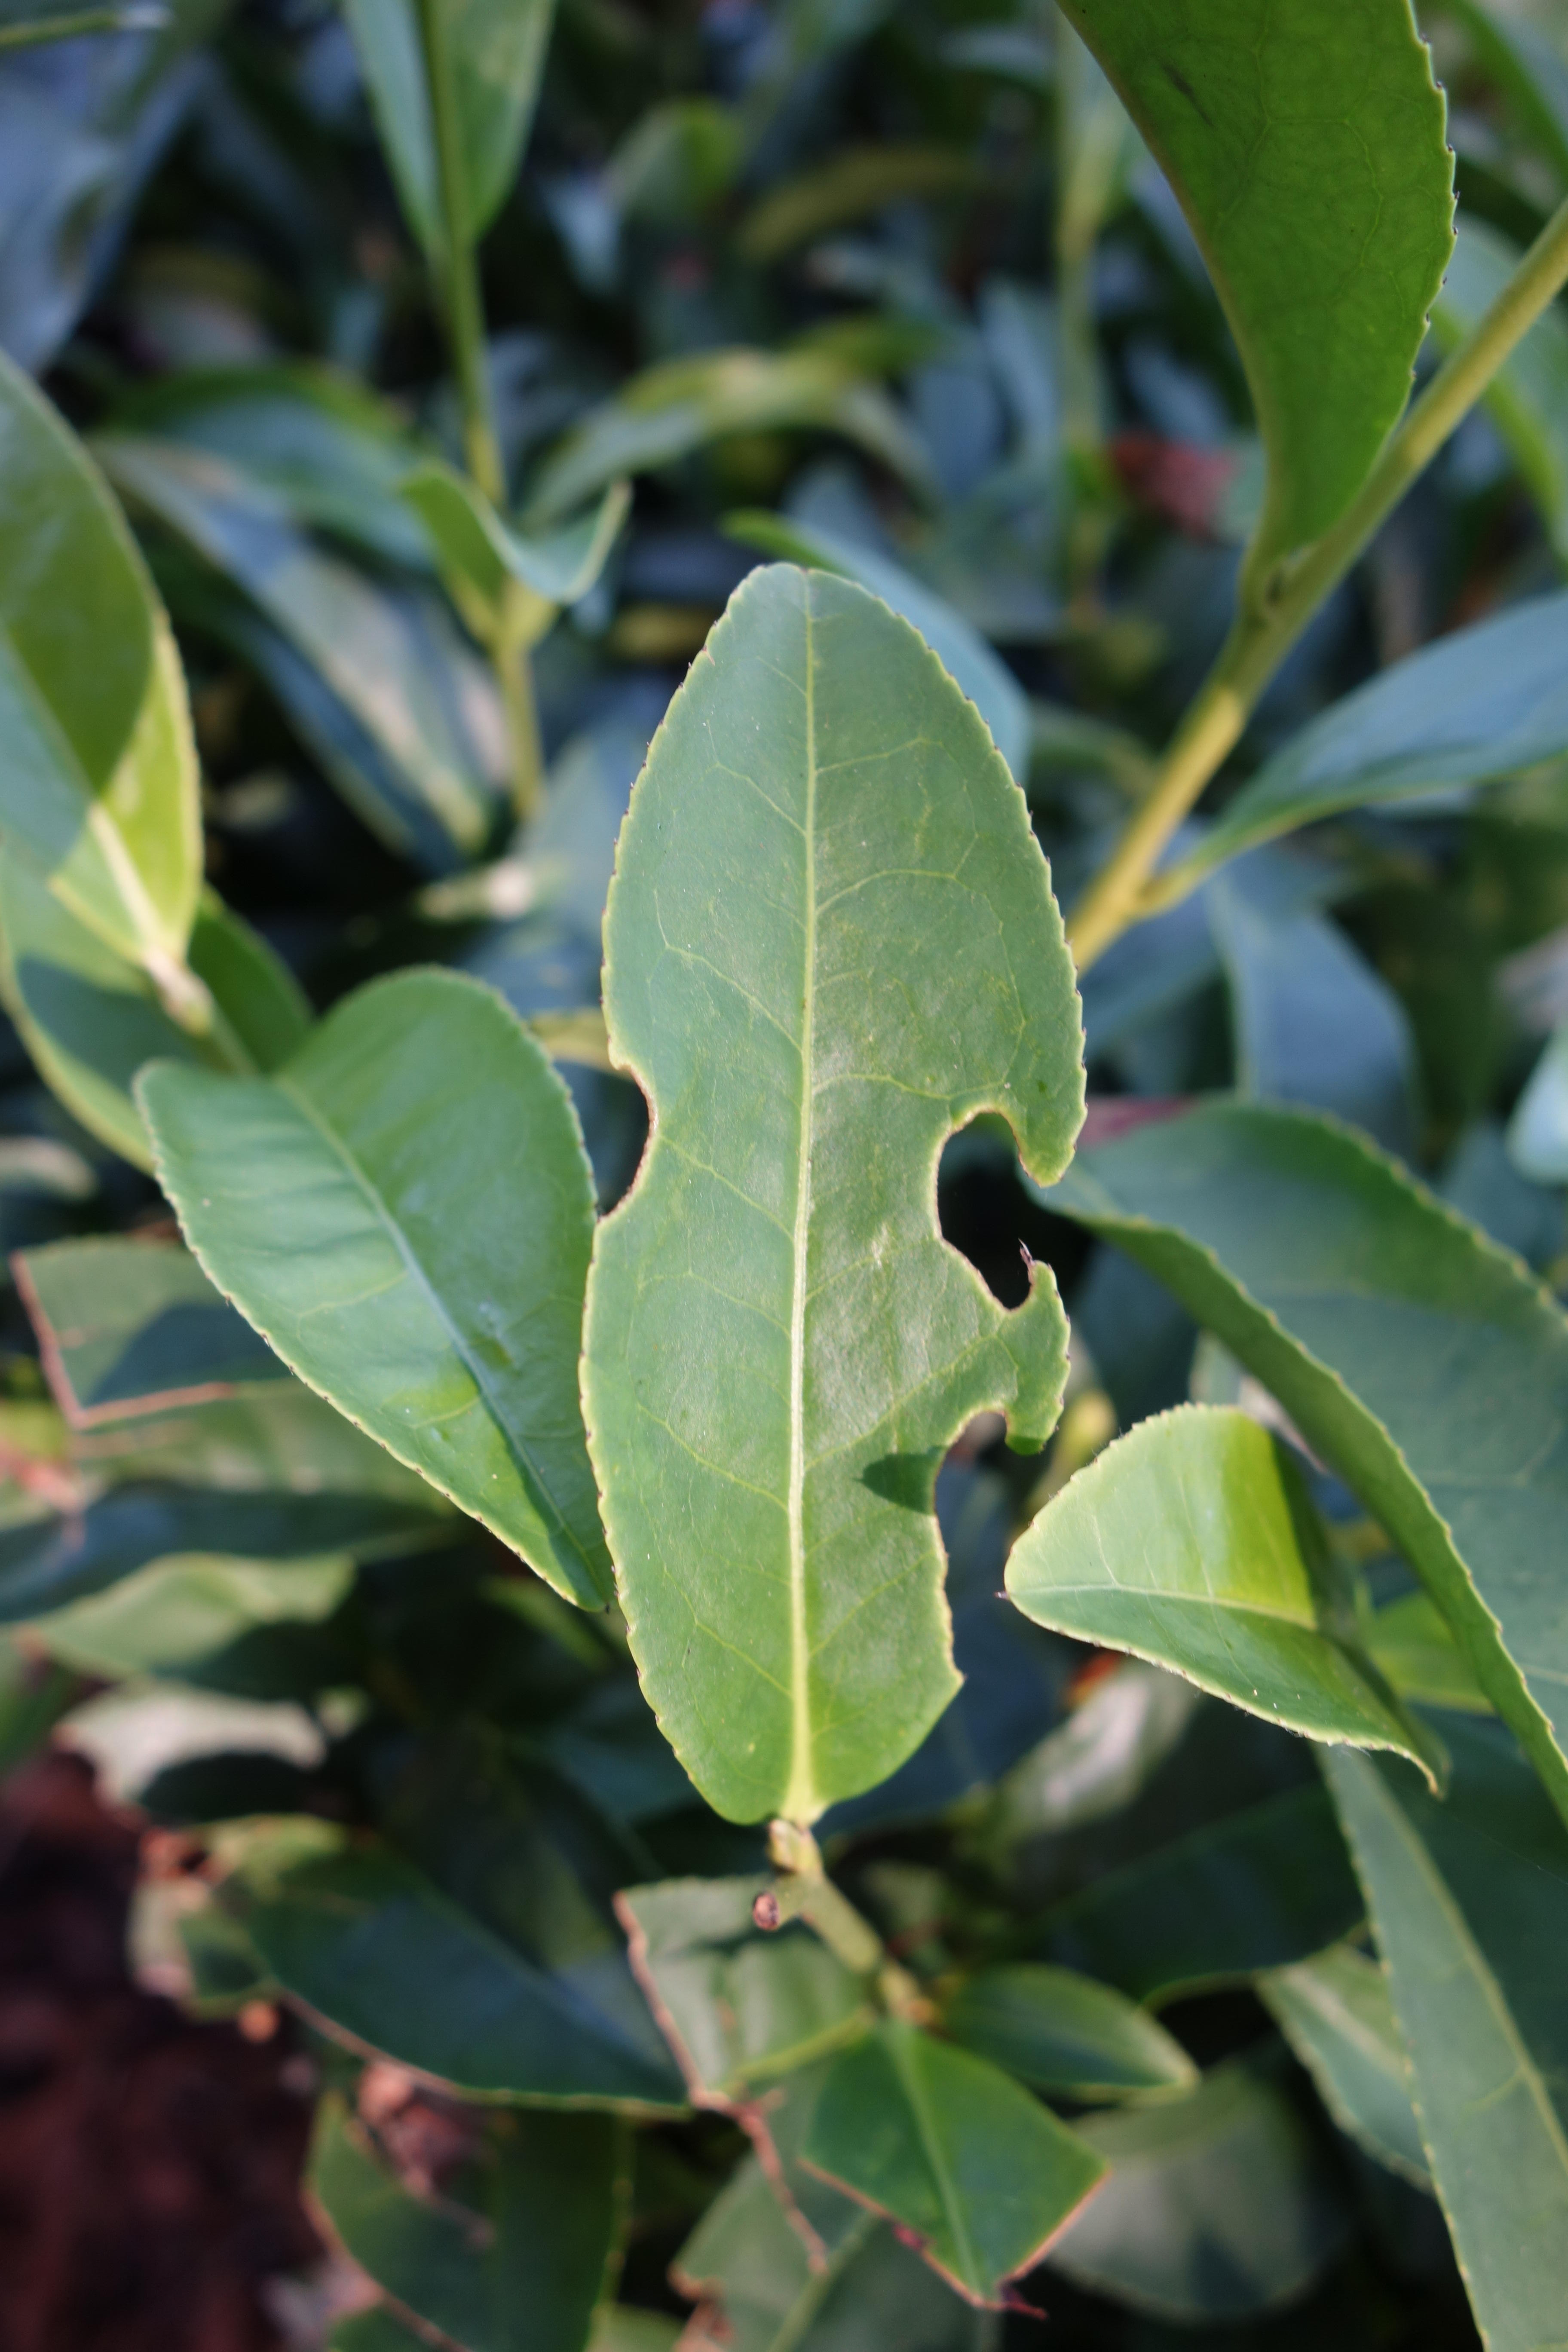chihuo_high: (574, 556, 1092, 1846)
healthy: (136, 971, 614, 1615), (1006, 1396, 1454, 1792), (5, 345, 233, 976)
